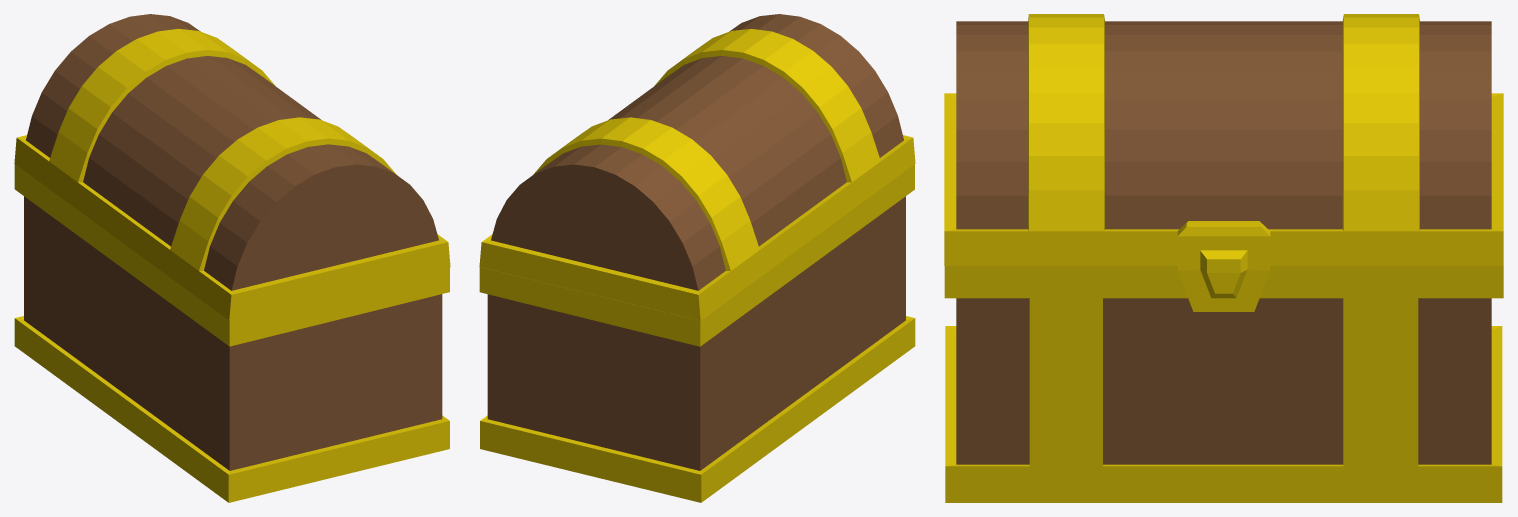
The model's file is chest.fbx.
3 renders of one model, left to right at view 1: azimuth 30°, elevation 25°; view 2: azimuth 150°, elevation 25°; view 3: azimuth 270°, elevation 25°, orthographic. The views are drawn at different scales.
Visible parts, largest first — view 1: Chest1top, Chest1bottom; view 2: Chest1top, Chest1bottom; view 3: Chest1top, Chest1bottom.
Part boxes in pixels (<box>): Chest1top: <box>14,14,450,320</box>; Chest1bottom: <box>14,164,449,502</box>; Chest1top: <box>479,14,915,320</box>; Chest1bottom: <box>479,164,915,502</box>; Chest1top: <box>944,14,1503,311</box>; Chest1bottom: <box>944,266,1503,502</box>.
Bounding box in the file's own units: 132 × 167 × 209.
